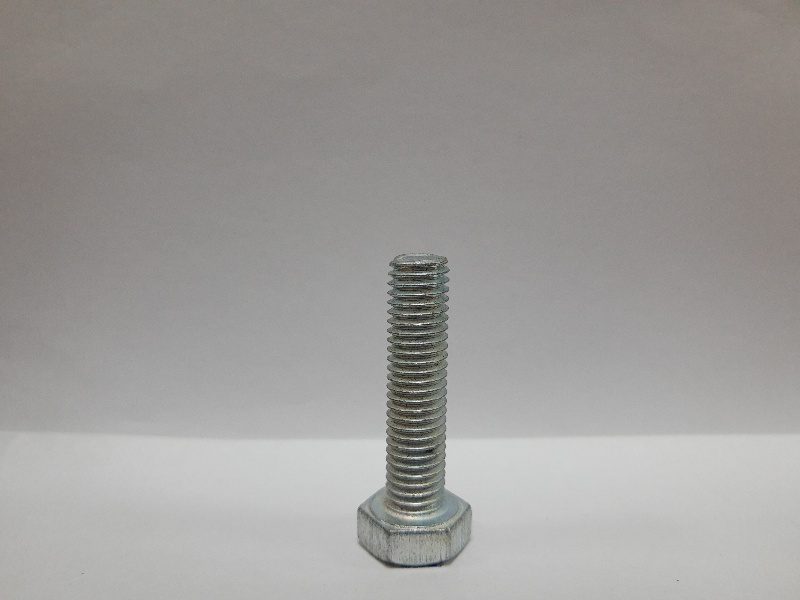pf: (351, 246, 477, 574)
